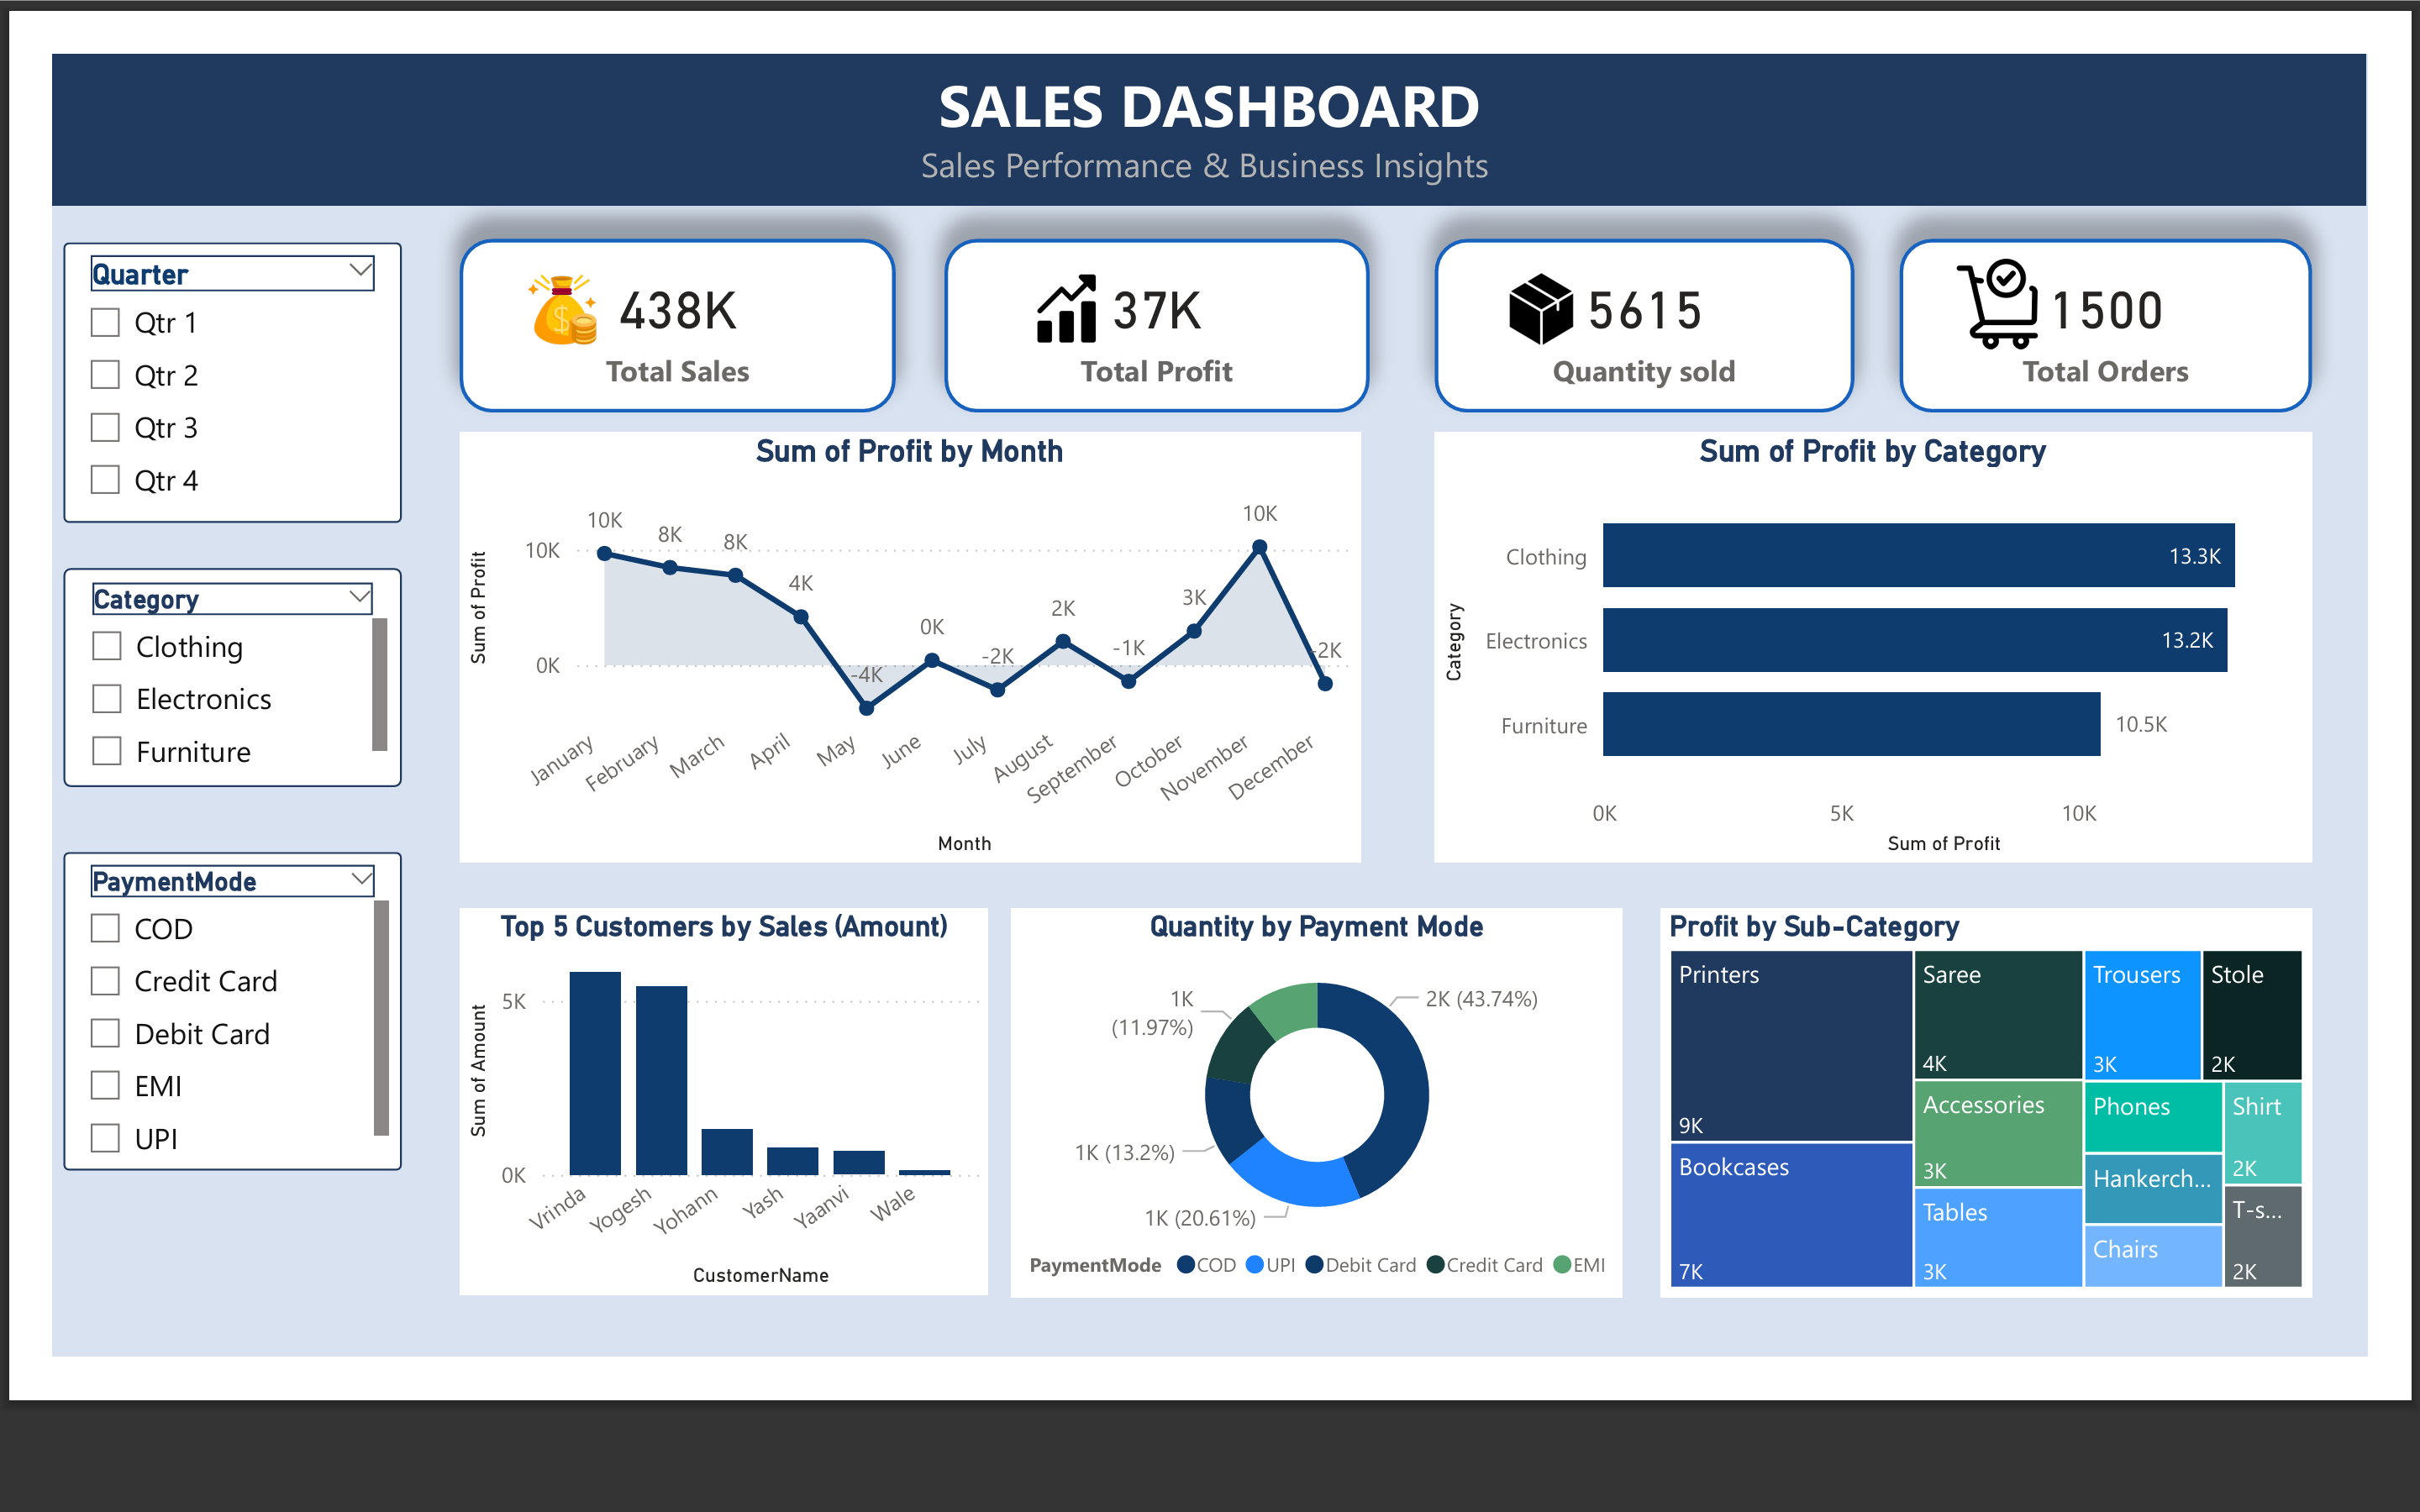

Layout of this report page (visuals, bound fields, positions):
{"tool":"powerbi","page":{"name":"Page 1","canvas":[1280,720],"ordinal":0},"visuals":[{"type":"treemap","title":"Profit by Sub-Category","fields":{"Group":["Details.Sub-Category"],"Values":["Sum(Details.Profit)"]},"box":[888.6,471.7,360.1,215.3],"z":0},{"type":"donutChart","title":"Quantity by Payment Mode","fields":{"Category":["Details.PaymentMode"],"Y":["Sum(Details.Quantity)"]},"box":[530.4,471.7,337.6,215.3],"z":1000},{"type":"clusteredBarChart","fields":{"Category":["Details.Category"],"Y":["Sum(Details.Profit)"]},"box":[764.3,209.4,484.4,237.8],"z":2000},{"type":"lineStackedColumnComboChart","title":"Top 5 Customers by Sales (Amount)","fields":{"Category":["Orders.CustomerName"],"Y":["Sum(Details.Amount)"]},"box":[225.1,471.7,291.6,214.3],"z":3000},{"type":"slicer","fields":{"Values":["Orders.Order Date.Variation.Date Hierarchy.Quarter"]},"box":[6.2,103.7,187.1,155.2],"z":4000},{"type":"lineChart","fields":{"Category":["Orders.Order Date.Variation.Date Hierarchy.Month"],"Y":["Sum(Details.Profit)"]},"box":[225.1,209.4,498.1,237.8],"z":5000},{"type":"card","fields":{"Values":["Sum(Details.Quantity)"]},"box":[764.3,101.8,231.9,95.9],"z":6000},{"type":"actionButton","box":[0,0,100,40],"z":7000},{"type":"card","fields":{"Values":["Sum(Details.Profit)"]},"box":[493.2,101.8,234.9,95.9],"z":8000},{"type":"card","fields":{"Values":["Sum(Details.Amount)"]},"box":[225.1,101.8,240.7,95.9],"z":9000},{"type":"textbox","box":[0,0,1279,83.6],"z":10000},{"type":"card","fields":{"Values":["CountNonNull(Details.Order ID)"]},"box":[1020.7,101.8,228,95.9],"z":11000},{"type":"slicer","fields":{"Values":["Details.Category"]},"box":[6.2,283.7,187.1,121.5],"z":12000},{"type":"slicer","fields":{"Values":["Details.PaymentMode"]},"box":[6.2,440.7,187.1,176.5],"z":13000},{"type":"image","box":[257,122.3,49.4,38.3],"z":14000},{"type":"image","box":[539.2,117.4,43.1,46],"z":15000},{"type":"image","box":[799.5,115.5,46,50.9],"z":16000},{"type":"image","box":[1050.2,103.8,49.4,68],"z":17000}]}

Visuals, with their boxes in screenshot pixels (x1, y1, x2, y2):
"Profit by Sub-Category" treemap: <box>1712,956,2407,1372</box>
"Quantity by Payment Mode" donutChart: <box>1019,956,1671,1372</box>
clusteredBarChart - Details.Category x Sum(Details.Profit): <box>1471,449,2407,908</box>
"Top 5 Customers by Sales (Amount)" lineStackedColumnComboChart: <box>429,956,992,1370</box>
slicer - Orders.Order Date.Variation.Date Hierarchy.Quarter: <box>6,244,367,544</box>
lineChart - Orders.Order Date.Variation.Date Hierarchy.Month x Sum(Details.Profit): <box>429,449,1391,908</box>
card - Sum(Details.Quantity): <box>1471,241,1919,426</box>
actionButton: <box>0,44,187,122</box>
card - Sum(Details.Profit): <box>947,241,1401,426</box>
card - Sum(Details.Amount): <box>429,241,894,426</box>
textbox: <box>0,44,2419,206</box>
card - CountNonNull(Details.Order ID): <box>1967,241,2407,426</box>
slicer - Details.Category: <box>6,592,367,827</box>
slicer - Details.PaymentMode: <box>6,895,367,1236</box>
image: <box>491,281,586,354</box>
image: <box>1036,271,1119,360</box>
image: <box>1539,267,1628,365</box>
image: <box>2023,244,2119,376</box>
